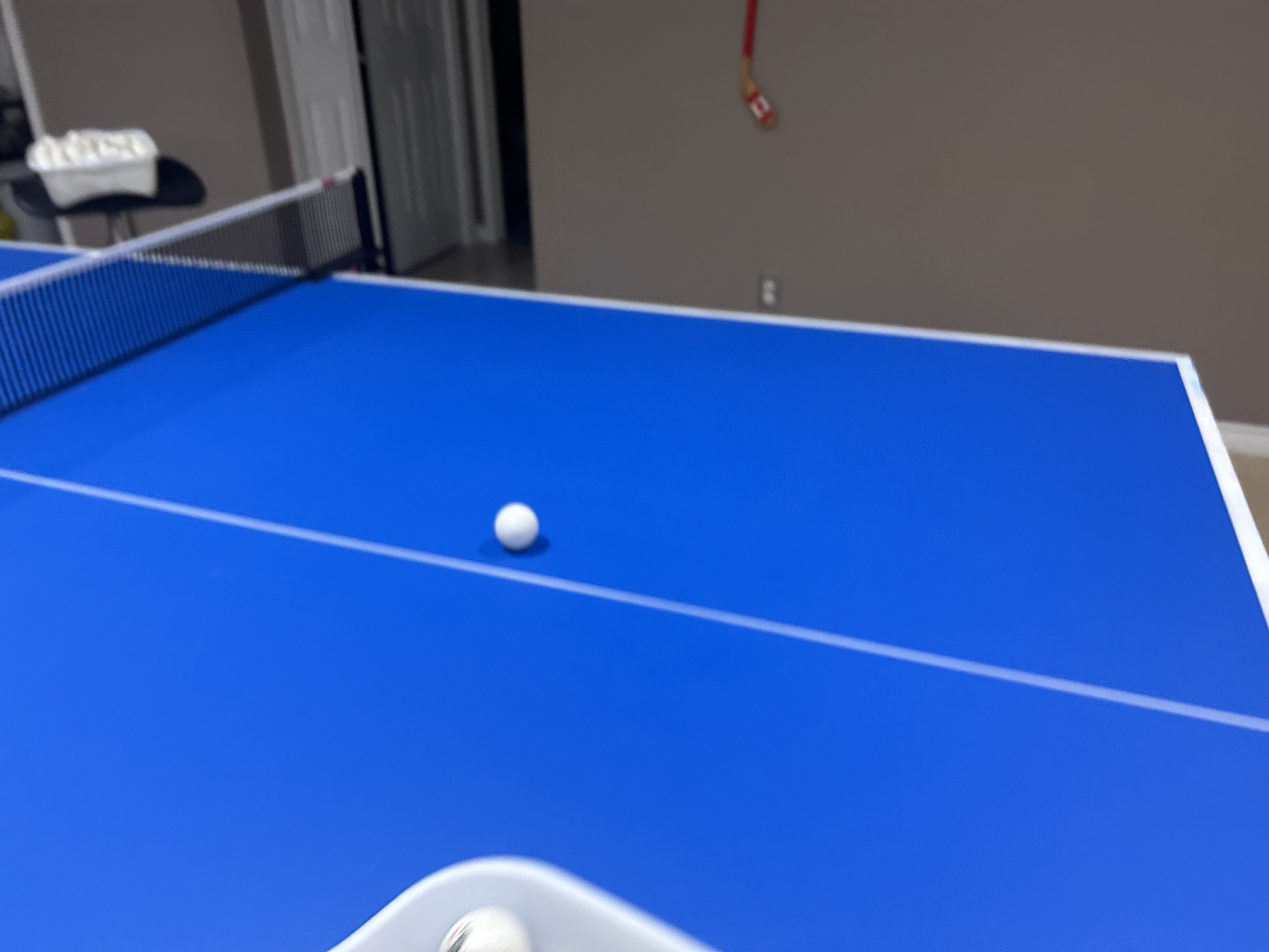Ball: (496, 502, 540, 551)
